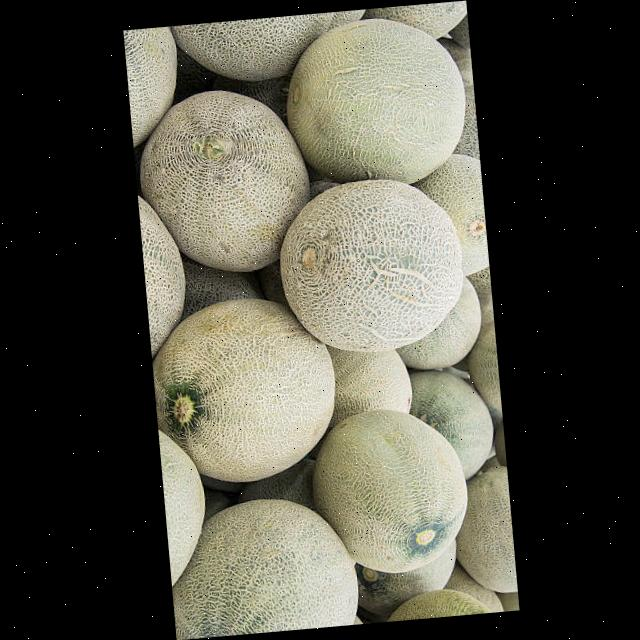Hami Melon: (146, 291, 342, 488), (272, 171, 469, 359), (130, 82, 317, 280), (278, 11, 472, 192), (304, 402, 471, 580), (164, 491, 362, 640)
